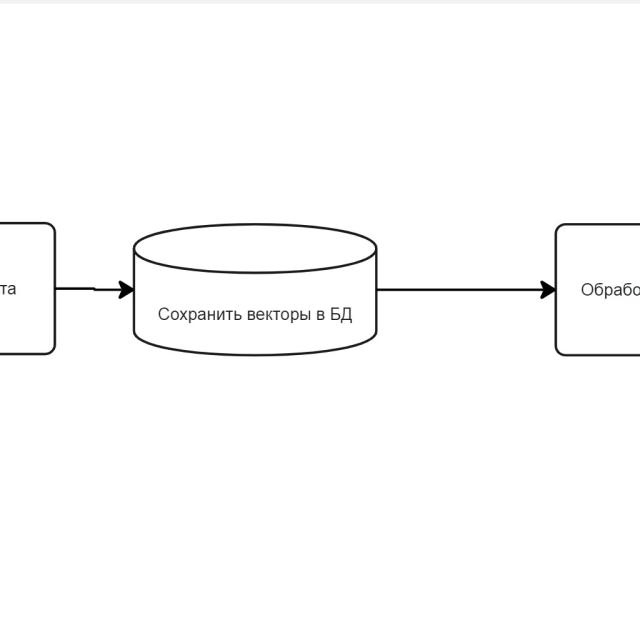arrow: (378, 281, 554, 298), (56, 275, 134, 299)
rectangle: (132, 246, 380, 357)
